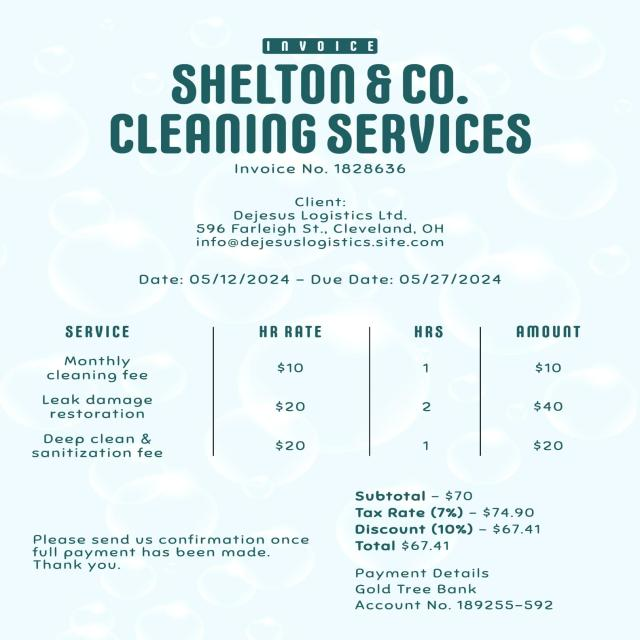paragraph: (74, 64, 536, 154), (182, 189, 452, 252), (25, 525, 311, 576), (346, 486, 555, 555), (346, 562, 573, 611), (133, 270, 509, 290), (256, 30, 384, 59), (233, 161, 415, 177)
table: (17, 312, 584, 466)
